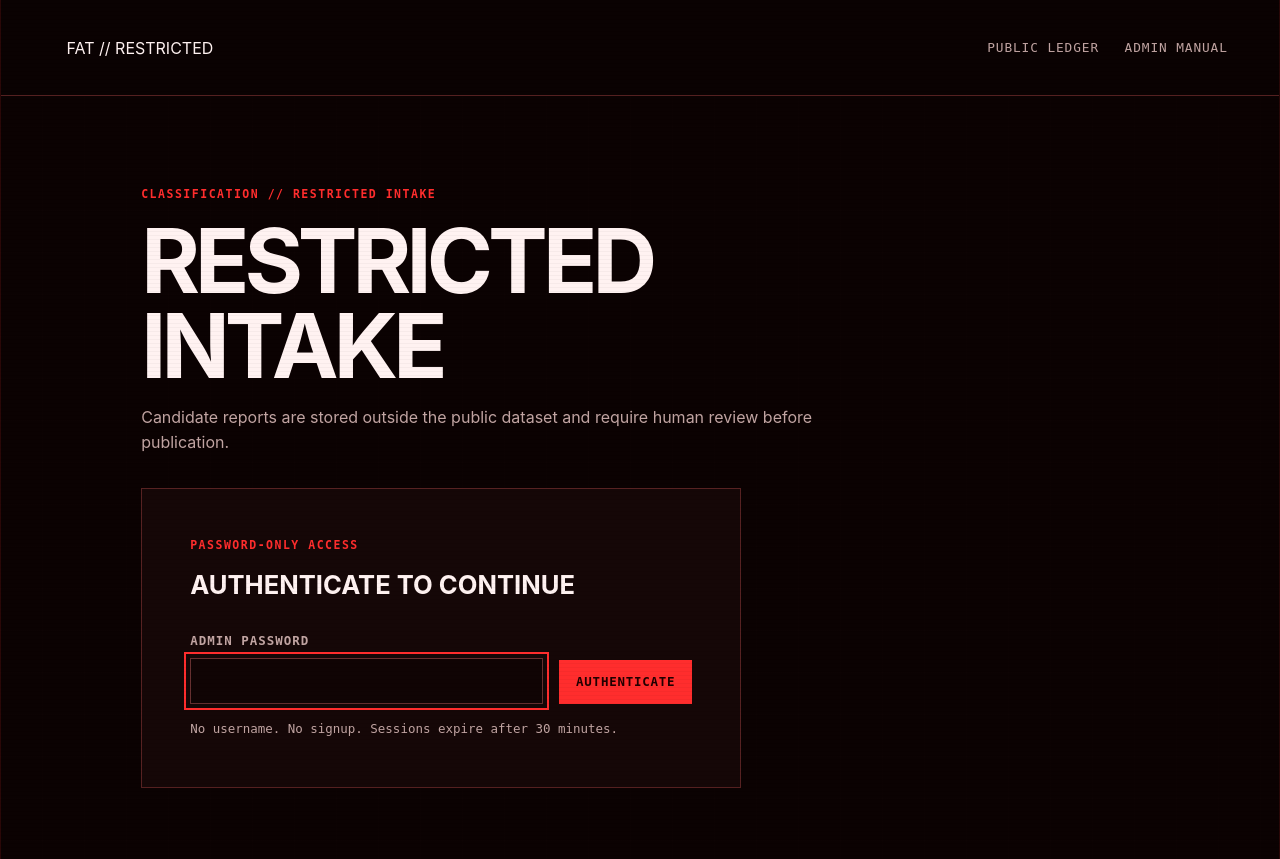
Scenario: admin intake accessibility and recovery › focuses intake after login, uses touch-friendly incident checkboxes, and sets an admin title
This screenshot has width=1280, height=859.
Type "password" into the password field labelled "Admin password". click: (367, 681)
box: [190,658,543,704]
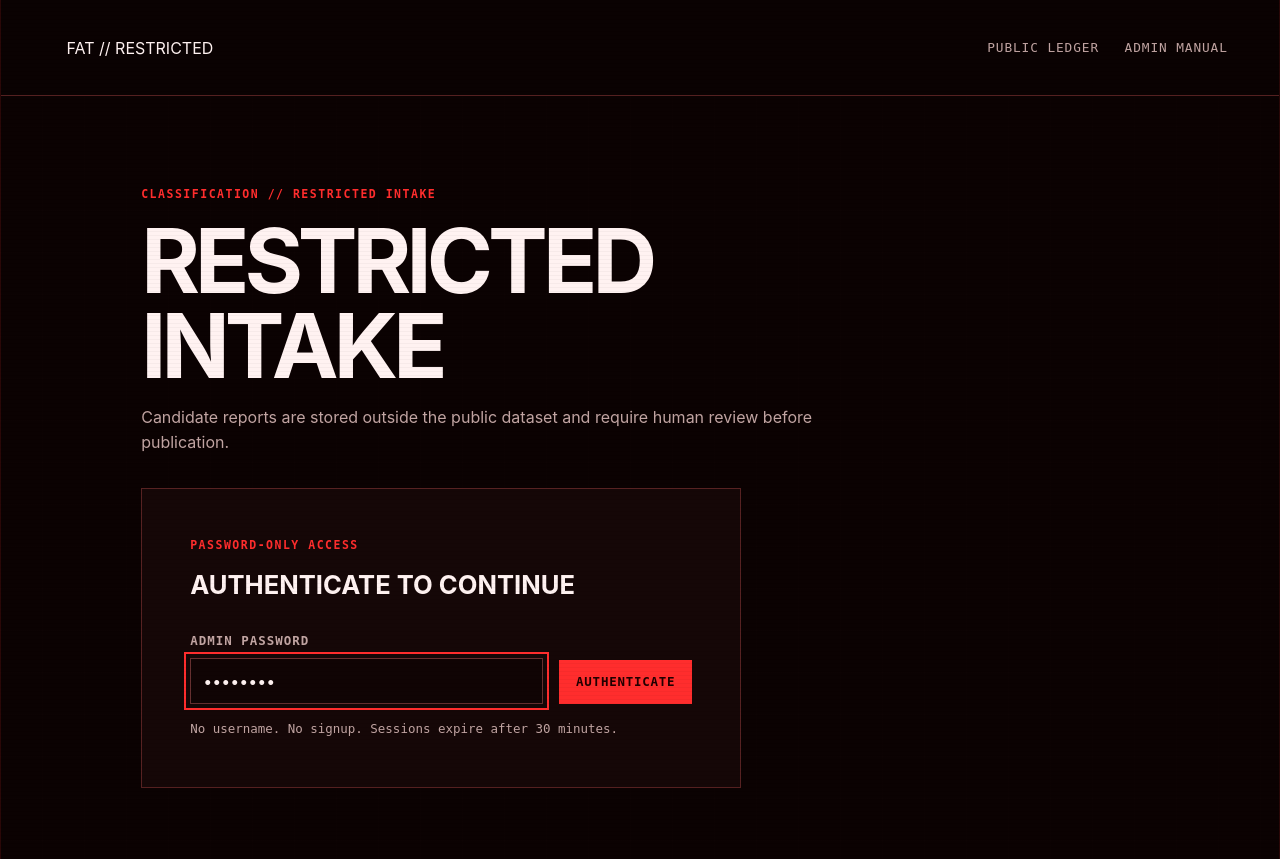
Click the button "Authenticate". click: (626, 682)
box: [559,660,692,704]
(page scrolled)
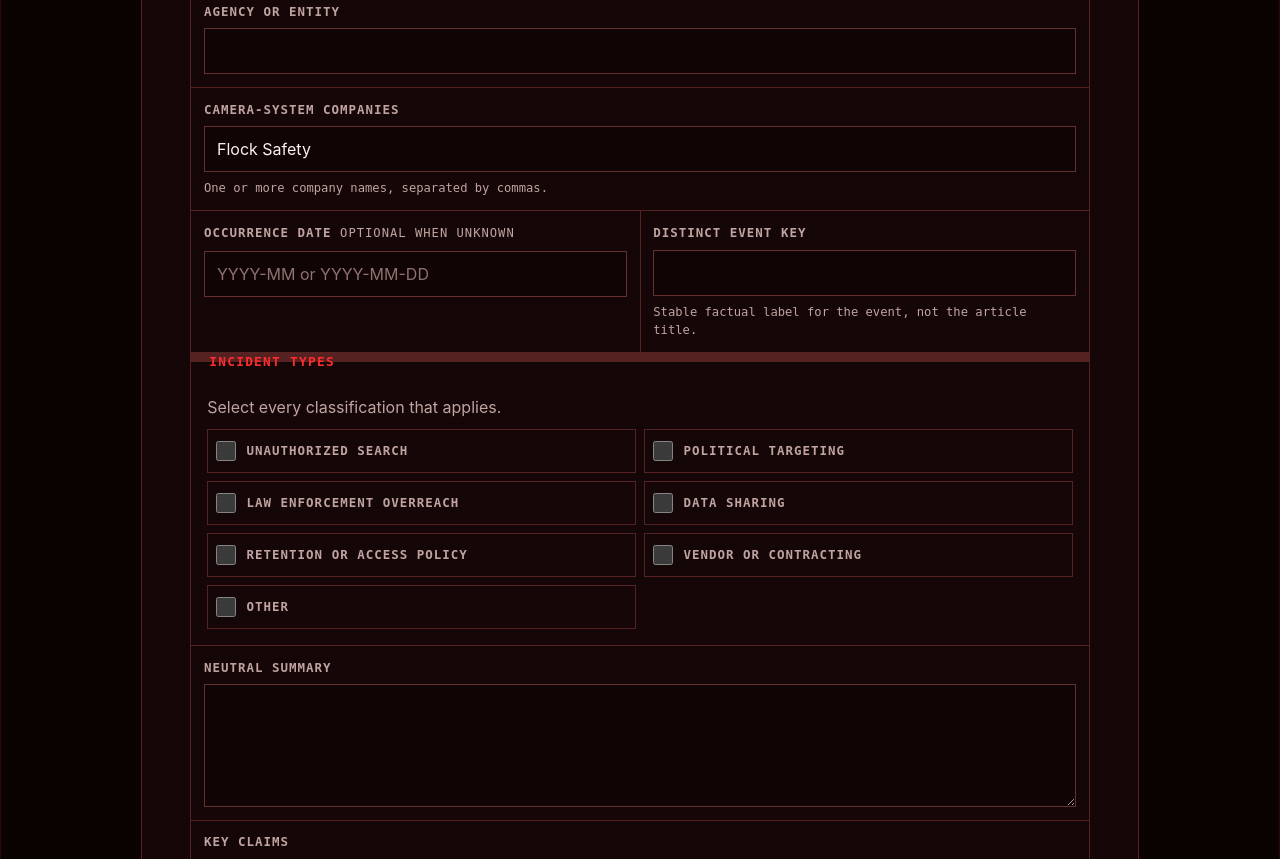
Now the checkbox labelled "Unauthorized Search" is shown, box [216,441,236,461]
